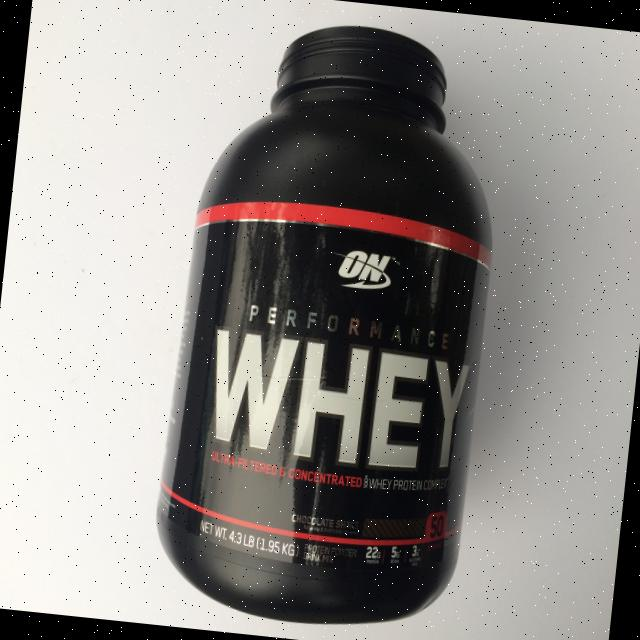plastic: (144, 7, 516, 638)
